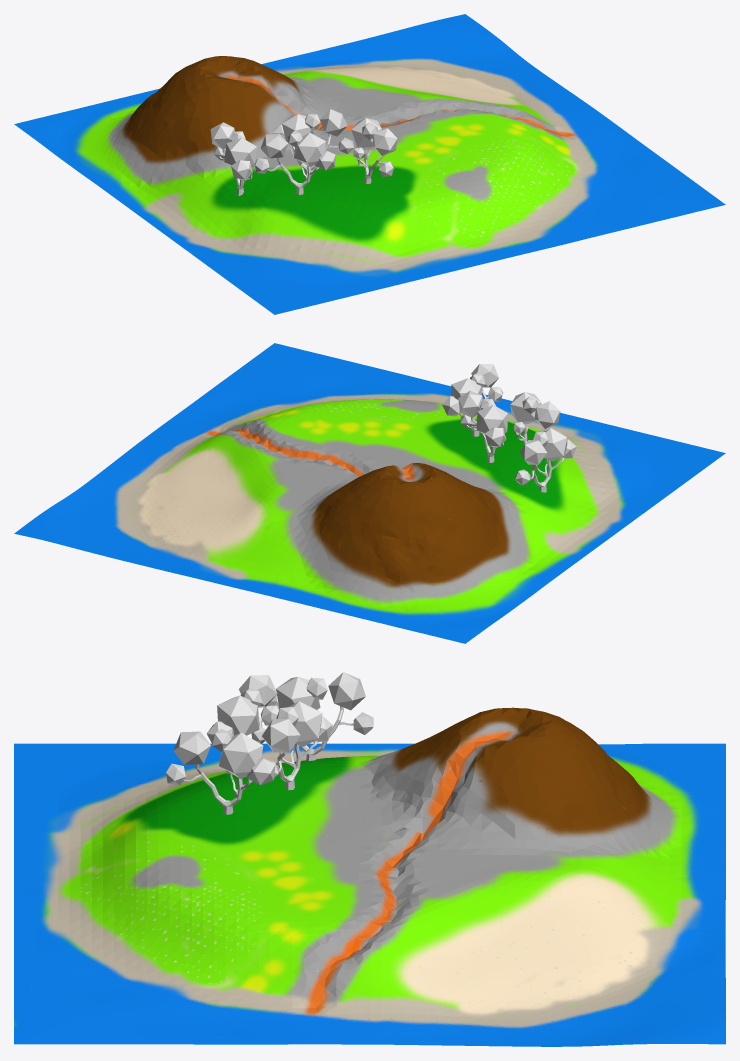
File: Base_Terrain + Trees with Coloistion  osc_V1.glb
3 views of the same model, one above another, from view 1: azimuth 30°, elevation 25°; view 2: azimuth 150°, elevation 25°; view 3: azimuth 270°, elevation 25° (orthographic). The views are drawn at different scales.
Visible parts, largest first — view 1: Base_terrian, Tree-colonly.001, Tree, Tree-colonly.002, Tree-colonly.003; view 2: Base_terrian, Tree-colonly.003, Tree, Tree-colonly.002, Tree-colonly.001, Tree.001; view 3: Base_terrian, Tree-colonly.002, Tree-colonly.003, Tree, Tree.001, Tree-colonly.001.
Part boxes in pixels (x1,y1,x2,y2): Base_terrian: (14, 14, 725, 314); Tree-colonly.001: (254, 130, 335, 194); Tree: (210, 122, 256, 195); Tree-colonly.002: (351, 118, 397, 183); Tree-colonly.003: (272, 109, 353, 175); Base_terrian: (14, 343, 725, 643); Tree-colonly.003: (458, 390, 508, 462); Tree: (515, 428, 576, 492); Tree-colonly.002: (442, 364, 503, 436); Tree-colonly.001: (511, 394, 560, 443); Tree.001: (510, 392, 559, 444); Base_terrian: (14, 707, 725, 1046); Tree-colonly.002: (166, 728, 275, 814); Tree-colonly.003: (262, 701, 332, 790); Tree: (267, 672, 373, 760); Tree.001: (207, 675, 279, 747); Tree-colonly.001: (206, 675, 277, 743).
Size of what is drawn, in the model's own units: 200 by 41.25 by 200.
Materials: 1 (1 with a texture image).
